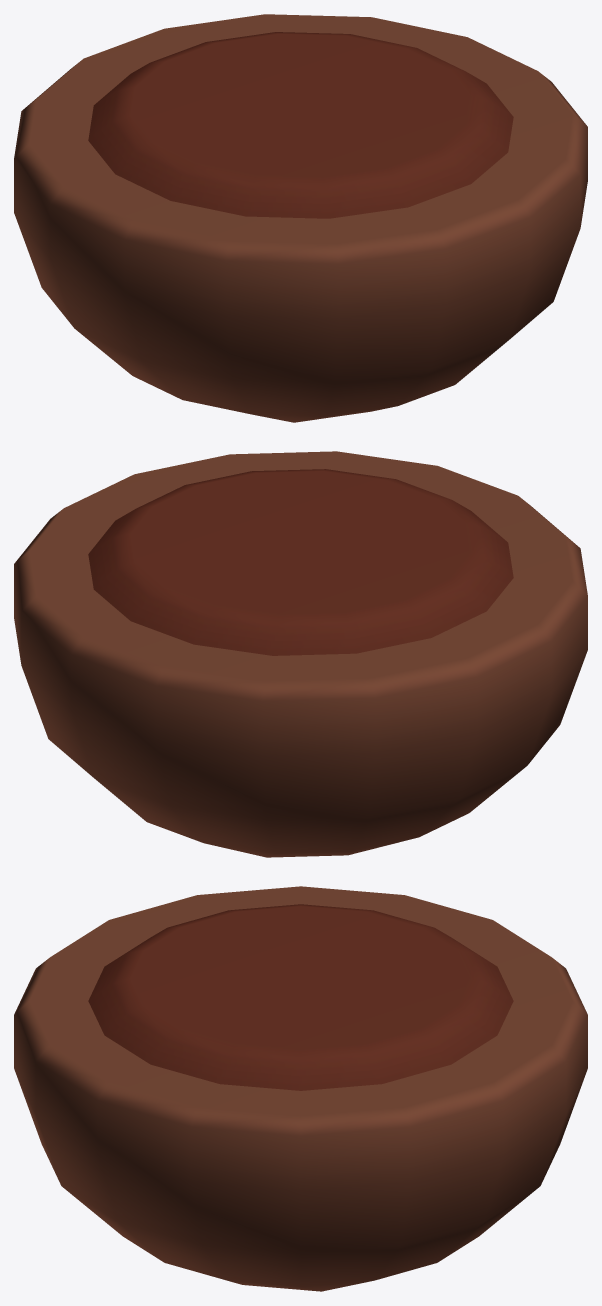
Rendered from Candy_01.glb.
3 views of the same model, one above another, from view 1: azimuth 30°, elevation 25°; view 2: azimuth 150°, elevation 25°; view 3: azimuth 270°, elevation 25° (orthographic).
Visible parts, largest first — view 1: Candy_01; view 2: Candy_01; view 3: Candy_01.
Part boxes in pixels (x1=…): Candy_01: x1=14, y1=14, x2=587, y2=422; Candy_01: x1=14, y1=451, x2=587, y2=857; Candy_01: x1=14, y1=886, x2=587, y2=1291.
Size of the model in its own units: 1.9 by 1.06 by 1.9.
2 materials, 2 textured.
